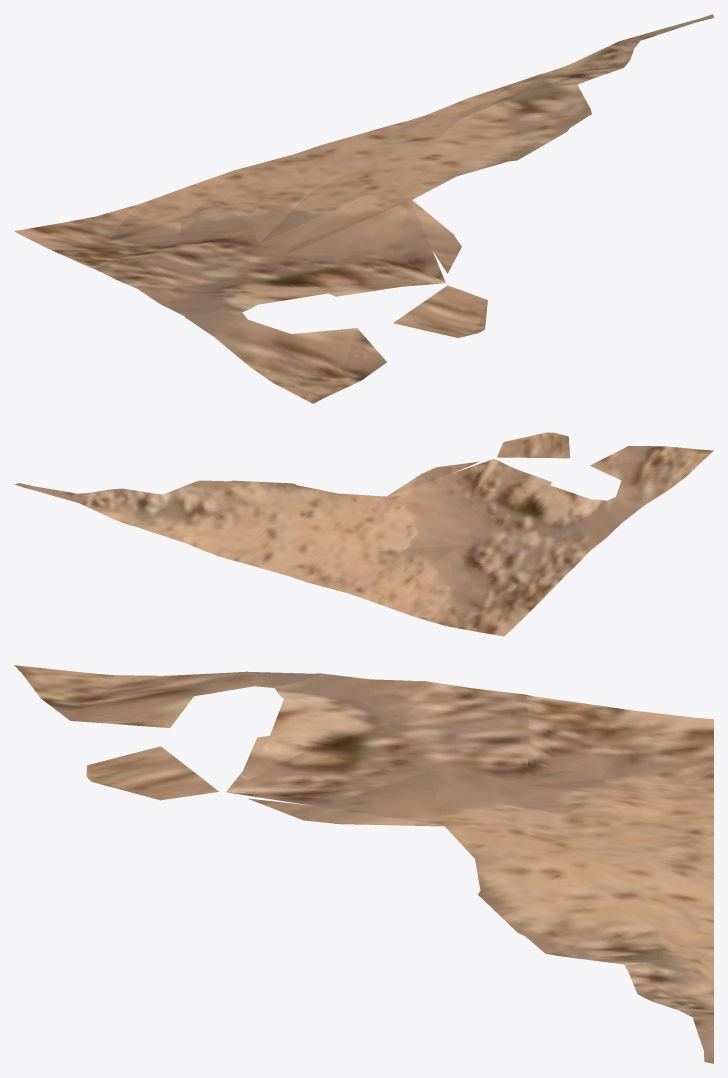
The picture shows the model from 3 angles, top to bottom: view 1: azimuth 30°, elevation 25°; view 2: azimuth 150°, elevation 25°; view 3: azimuth 270°, elevation 25°; orthographic projection. The views are drawn at different scales.
Size of the model in its own units: 0.7672 by 0.0542 by 0.5689.
Materials: 1 (1 with a texture image).
